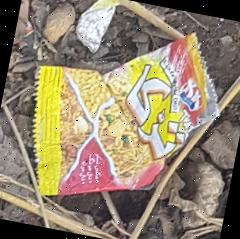general: (11, 2, 233, 225)
